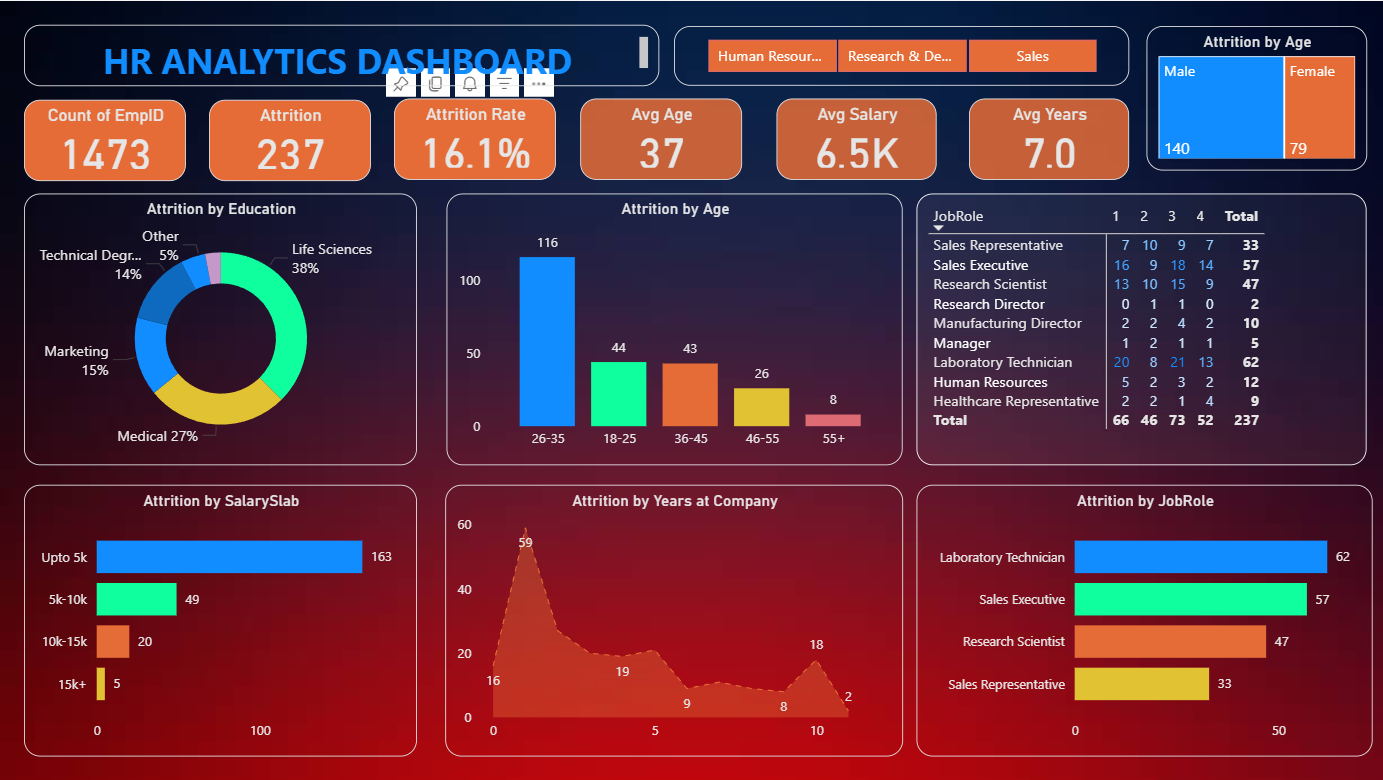

The dashboard page shown, as its layout file describes it:
{"tool":"powerbi","page":{"name":"Page 1","canvas":[1280,720],"ordinal":0},"visuals":[{"type":"card","title":"Count of EmpID","fields":{"Values":["CountNonNull(HR_Analytics.EmpID)"]},"box":[22.8,91.2,149.7,75.5],"z":0},{"type":"card","title":"Attrition","fields":{"Values":["Sum(HR_Analytics.AttritionCount)"]},"box":[193.9,91.2,149.7,75.5],"z":1000},{"type":"card","title":"Attrition Rate","fields":{"Values":["HR_Analytics.AttritionRate"]},"box":[364.9,89.8,149.7,75.5],"z":2000},{"type":"card","title":"Avg Age","fields":{"Values":["Avg(HR_Analytics.Age)"]},"box":[537.4,89.8,149.7,75.5],"z":3000},{"type":"card","title":"Avg Salary","fields":{"Values":["Avg(HR_Analytics.MonthlyIncome)"]},"box":[718.4,89.8,148.2,75.5],"z":4000},{"type":"card","title":"Avg Years","fields":{"Values":["Avg(HR_Analytics.YearsAtCompany)"]},"box":[896.6,89.8,148.2,75.5],"z":5000},{"type":"donutChart","title":"Attrition by Education","fields":{"Category":["HR_Analytics.EducationField"],"Y":["Sum(HR_Analytics.AttritionCount)"]},"box":[22.8,178.2,363.5,250.9],"z":6000},{"type":"columnChart","title":"Attrition by Age","fields":{"Category":["HR_Analytics.AgeGroup"],"Y":["Sum(HR_Analytics.AttritionCount)"]},"box":[413.4,178.2,421.9,250.9],"z":7000},{"type":"pivotTable","fields":{"Rows":["HR_Analytics.JobRole"],"Columns":["HR_Analytics.JobSatisfaction"],"Values":["Sum(HR_Analytics.AttritionCount)"]},"box":[848.1,178.2,416.2,250.9],"z":8000},{"type":"barChart","title":"Attrition by SalarySlab","fields":{"Category":["HR_Analytics.SalarySlab"],"Y":["Sum(HR_Analytics.AttritionCount)"]},"box":[22.8,447.6,363.5,250.9],"z":9000},{"type":"barChart","title":"Attrition by JobRole","fields":{"Category":["HR_Analytics.JobRole"],"Y":["Sum(HR_Analytics.AttritionCount)"]},"box":[848.1,447.6,421.9,250.9],"z":10000},{"type":"areaChart","title":"Attrition by Years at Company","fields":{"Category":["HR_Analytics.YearsAtCompany"],"Y":["Sum(HR_Analytics.AttritionCount)"]},"box":[411.9,447.6,423.3,250.9],"z":11000},{"type":"treemap","title":"Attrition by Age","fields":{"Group":["HR_Analytics.Gender"],"Values":["Sum(HR_Analytics.AttritionCount)"]},"box":[1060.5,22.8,203.8,134],"z":12000},{"type":"slicer","fields":{"Values":["HR_Analytics.Department"]},"box":[624.3,22.8,420.5,55.6],"z":13000},{"type":"textbox","box":[22.8,21.4,587.3,57],"z":14000}]}

Visuals, with their boxes in screenshot pixels (x1, y1, x2, y2):
"Count of EmpID" card: pyautogui.locateOnScreen(28, 104, 187, 185)
"Attrition" card: pyautogui.locateOnScreen(210, 104, 370, 185)
"Attrition Rate" card: pyautogui.locateOnScreen(392, 103, 552, 183)
"Avg Age" card: pyautogui.locateOnScreen(576, 103, 736, 183)
"Avg Salary" card: pyautogui.locateOnScreen(769, 103, 927, 183)
"Avg Years" card: pyautogui.locateOnScreen(959, 103, 1117, 183)
"Attrition by Education" donutChart: pyautogui.locateOnScreen(28, 197, 415, 464)
"Attrition by Age" columnChart: pyautogui.locateOnScreen(444, 197, 894, 464)
pivotTable - HR_Analytics.JobRole x HR_Analytics.JobSatisfaction: pyautogui.locateOnScreen(907, 197, 1351, 464)
"Attrition by SalarySlab" barChart: pyautogui.locateOnScreen(28, 484, 415, 751)
"Attrition by JobRole" barChart: pyautogui.locateOnScreen(907, 484, 1357, 751)
"Attrition by Years at Company" areaChart: pyautogui.locateOnScreen(442, 484, 894, 751)
"Attrition by Age" treemap: pyautogui.locateOnScreen(1134, 31, 1351, 174)
slicer - HR_Analytics.Department: pyautogui.locateOnScreen(669, 31, 1117, 91)
textbox: pyautogui.locateOnScreen(28, 30, 654, 91)
